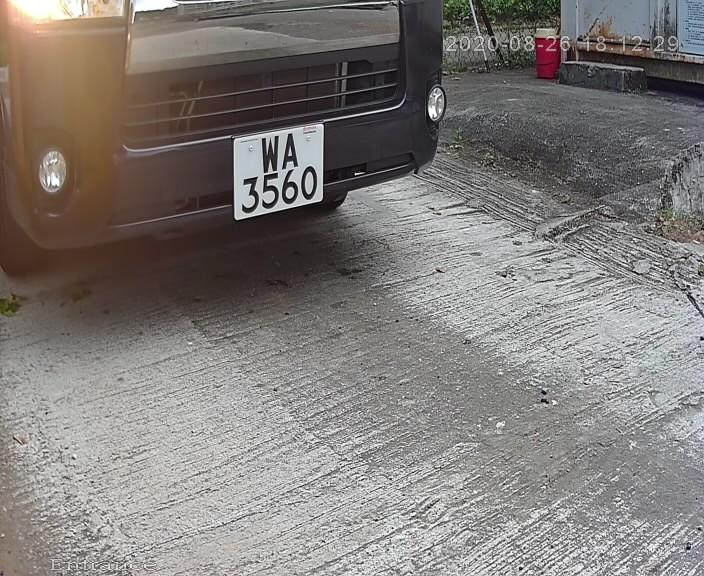License Plate: (221, 121, 331, 224)
